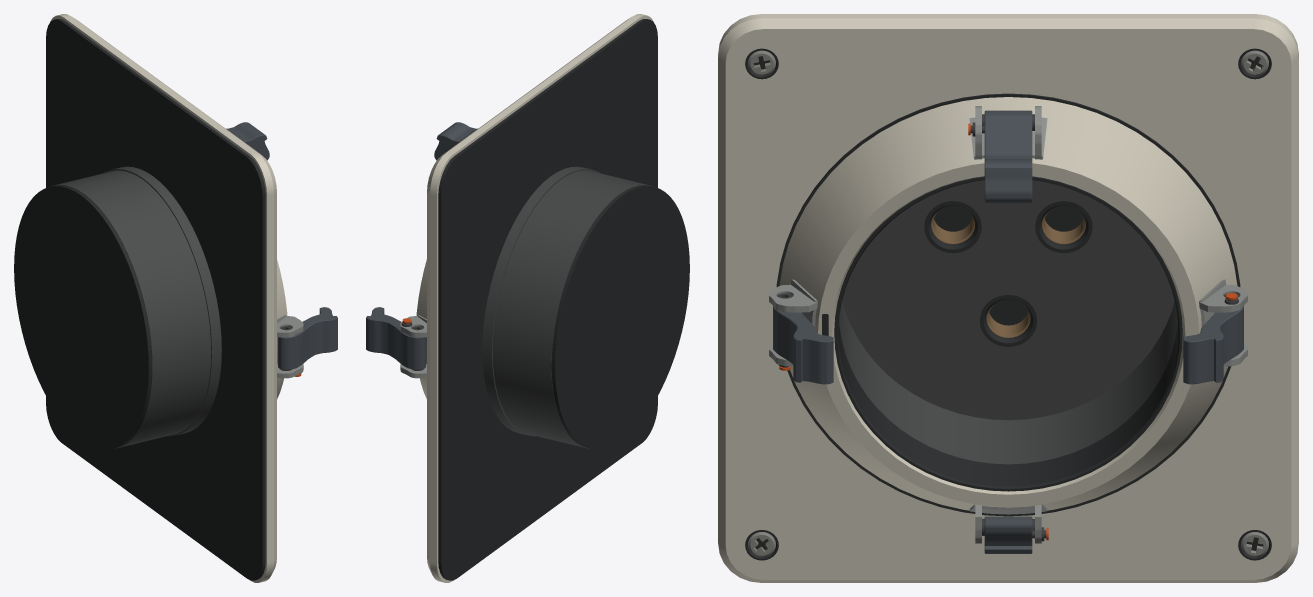
Rendered from power-socket.glb.
3 views of the same model, side by side, from view 1: azimuth 30°, elevation 25°; view 2: azimuth 150°, elevation 25°; view 3: azimuth 270°, elevation 25° (orthographic). The views are drawn at different scales.
Parts seen in each view (by area): view 1: Socket | wall gasket, Socket | rear closure, Socket | recessed barrel, Socket | radiused mounting plate, Port latch | forged jaw and lifting ledge, Top latch | forged jaw and lifting ledge, Socket | flared receiver, Port latch | trunnion guard.001; view 2: Socket | wall gasket, Socket | rear closure, Socket | recessed barrel, Socket | radiused mounting plate, Starboard latch | forged jaw and lifting ledge, Top latch | forged jaw and lifting ledge, Socket | flared receiver; view 3: Socket | radiused mounting plate, Socket | insulated pin carrier, Socket | flared receiver, Socket | recessed barrel, Socket | throat sleeve, Top latch | forged jaw and lifting ledge, Socket | bezel base seal, Port latch | forged jaw and lifting ledge, Starboard latch | forged jaw and lifting ledge, Socket | rear closure, Bottom latch | forged jaw and lifting ledge, Contact 1 | entrance ferrule (+4 smaller).
Boxes of the visible parts, <box> form: Socket | wall gasket: <box>46,19,265,580</box>; Socket | rear closure: <box>14,185,152,449</box>; Socket | recessed barrel: <box>51,166,221,448</box>; Socket | radiused mounting plate: <box>50,14,276,582</box>; Port latch | forged jaw and lifting ledge: <box>278,307,337,369</box>; Top latch | forged jaw and lifting ledge: <box>226,122,269,160</box>; Socket | flared receiver: <box>277,259,287,398</box>; Port latch | trunnion guard.001: <box>277,316,303,337</box>; Socket | wall gasket: <box>438,19,657,580</box>; Socket | rear closure: <box>551,185,689,449</box>; Socket | recessed barrel: <box>482,166,652,448</box>; Socket | radiused mounting plate: <box>427,14,653,582</box>; Starboard latch | forged jaw and lifting ledge: <box>366,307,425,369</box>; Top latch | forged jaw and lifting ledge: <box>434,122,477,160</box>; Socket | flared receiver: <box>416,259,426,398</box>; Socket | radiused mounting plate: <box>718,14,1298,582</box>; Socket | insulated pin carrier: <box>842,180,1174,420</box>; Socket | flared receiver: <box>779,97,1237,510</box>; Socket | recessed barrel: <box>839,301,1177,464</box>; Socket | throat sleeve: <box>834,176,1182,491</box>; Top latch | forged jaw and lifting ledge: <box>984,110,1032,202</box>; Socket | bezel base seal: <box>776,93,1240,516</box>; Port latch | forged jaw and lifting ledge: <box>773,306,833,384</box>; Starboard latch | forged jaw and lifting ledge: <box>1183,306,1243,384</box>; Socket | rear closure: <box>934,205,1082,325</box>; Bottom latch | forged jaw and lifting ledge: <box>984,516,1032,553</box>; Contact 1 | entrance ferrule: <box>924,201,981,253</box>.
Bounding box in the file's own units: 0.5197 × 1.18 × 1.1.
